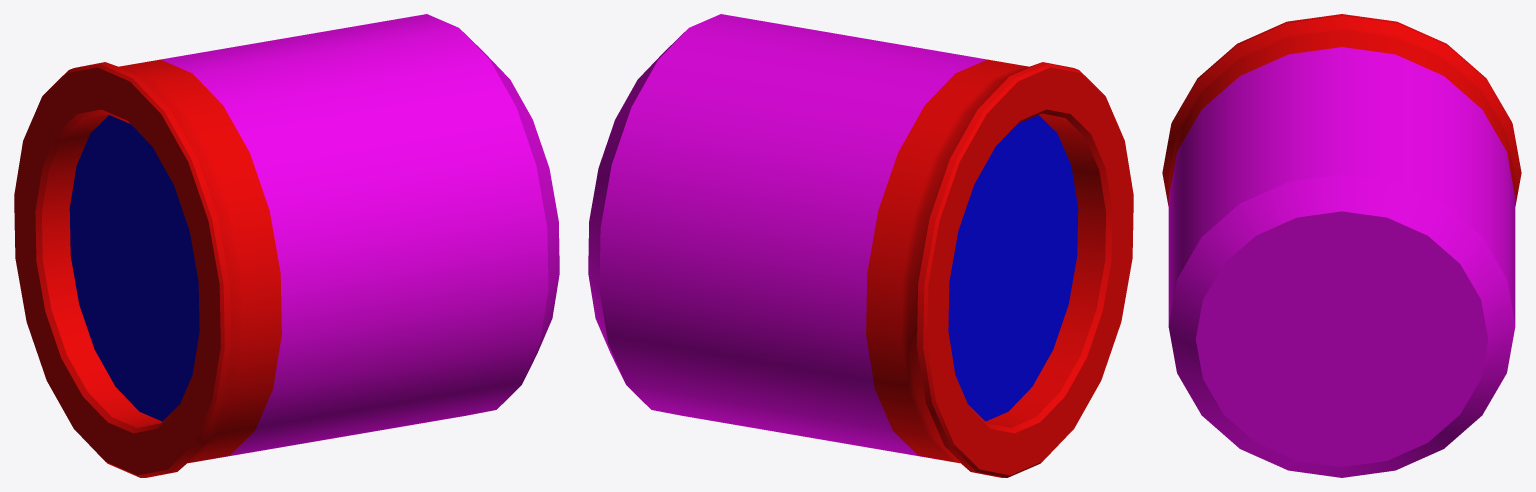
The model's file is Searchlight_Light.fbx.
3 views of the same model, side by side, from view 1: azimuth 30°, elevation 25°; view 2: azimuth 150°, elevation 25°; view 3: azimuth 270°, elevation 25° (orthographic). The views are drawn at different scales.
Parts seen in each view (by area): view 1: SearchLight1; view 2: SearchLight1; view 3: SearchLight1.
Boxes of the visible parts, <box> form: SearchLight1: <box>14,14,559,477</box>; SearchLight1: <box>588,14,1133,477</box>; SearchLight1: <box>1162,14,1521,477</box>.
Bounding box in the file's own units: 5.36 × 5.37 × 5.15.
